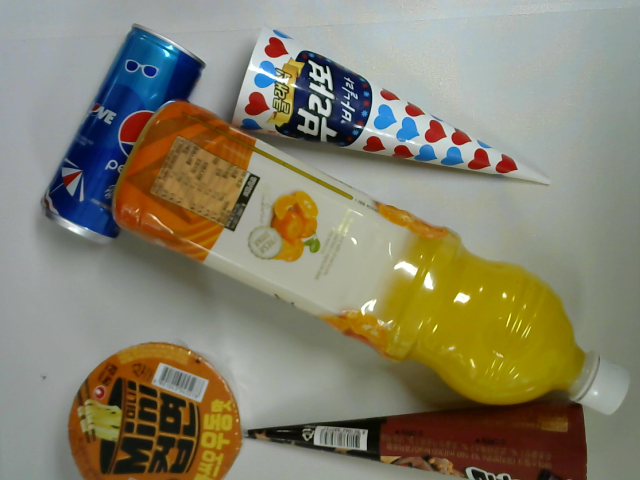Bravo_Cone_(Banila)_CVS: (228, 26, 556, 189)
Jeju_Tangerine_1.5L: (113, 94, 632, 420)
Pepsi_Cola_Can_250ml: (38, 17, 208, 245)
Udongmini: (68, 338, 243, 480)
World_Cone_Choco: (243, 399, 587, 480)
